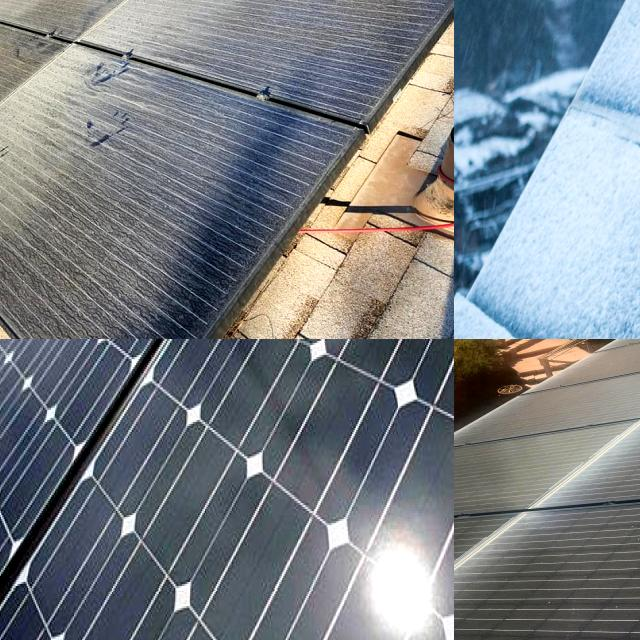crack: (0, 339, 454, 640)
dust: (0, 108, 243, 288), (193, 0, 452, 53), (0, 39, 107, 118), (465, 590, 622, 640), (284, 0, 454, 41), (257, 0, 449, 36), (0, 0, 148, 40), (94, 0, 218, 33), (115, 0, 223, 28), (0, 0, 44, 35)
panel: (547, 130, 640, 339), (454, 135, 520, 339)
